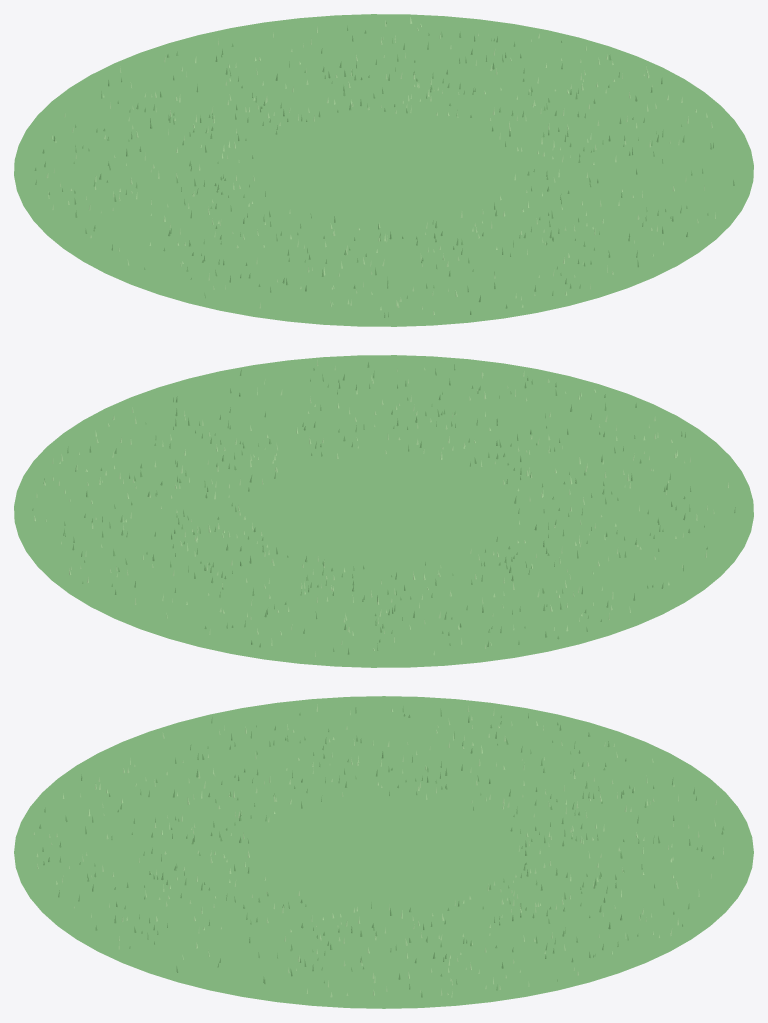
The model's file is model_GrassField.glb.
3 views of the same model, one above another, from view 1: azimuth 30°, elevation 25°; view 2: azimuth 150°, elevation 25°; view 3: azimuth 270°, elevation 25° (orthographic).
Parts seen in each view (by area): view 1: GrassField; view 2: GrassField; view 3: GrassField.
Boxes of the visible parts, x1,y1,x2,y2 form: GrassField: (14,14,753,326); GrassField: (14,355,753,667); GrassField: (14,696,753,1008).
Size of the model in its own units: 84 by 1.02 by 84.
